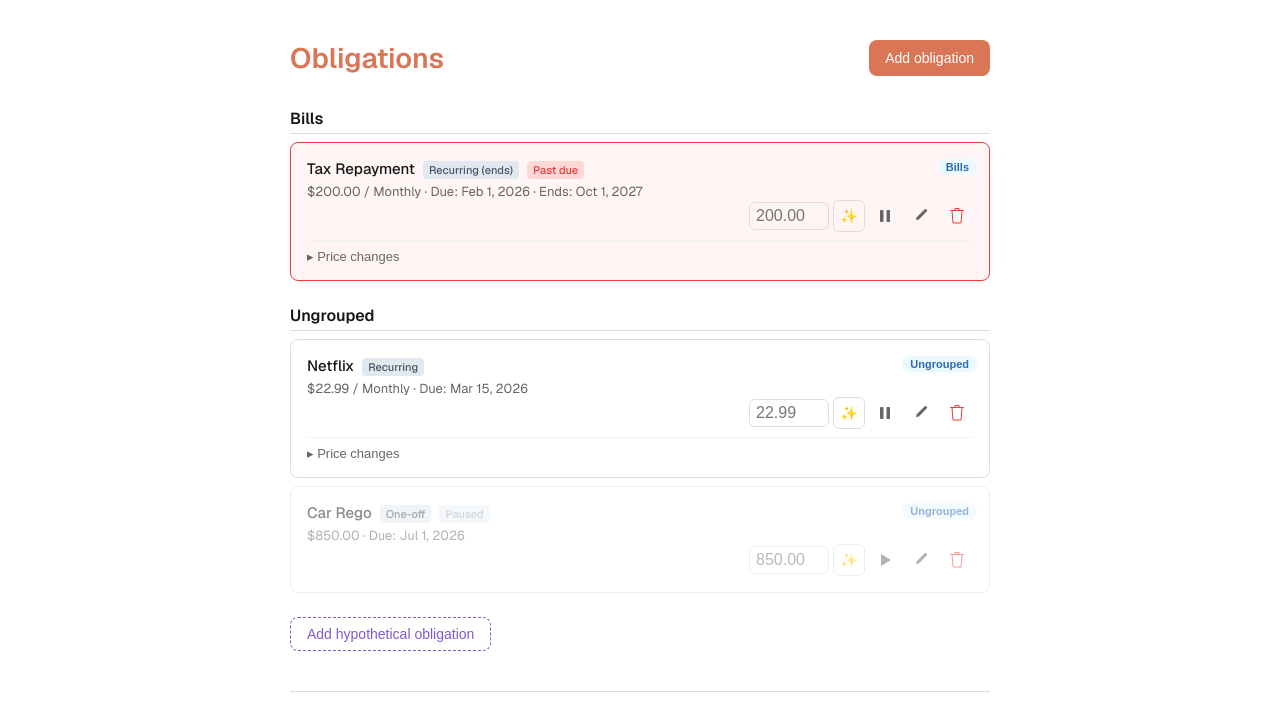
Test case: ObligationsPage › does not delete when confirmation is cancelled
The image size is (1280, 717).
Check: the text "Netflix" is shown, box [307,356,354,375]
Click the button named "Delete Netflix".
click(957, 413)  # box [941,397,973,429]
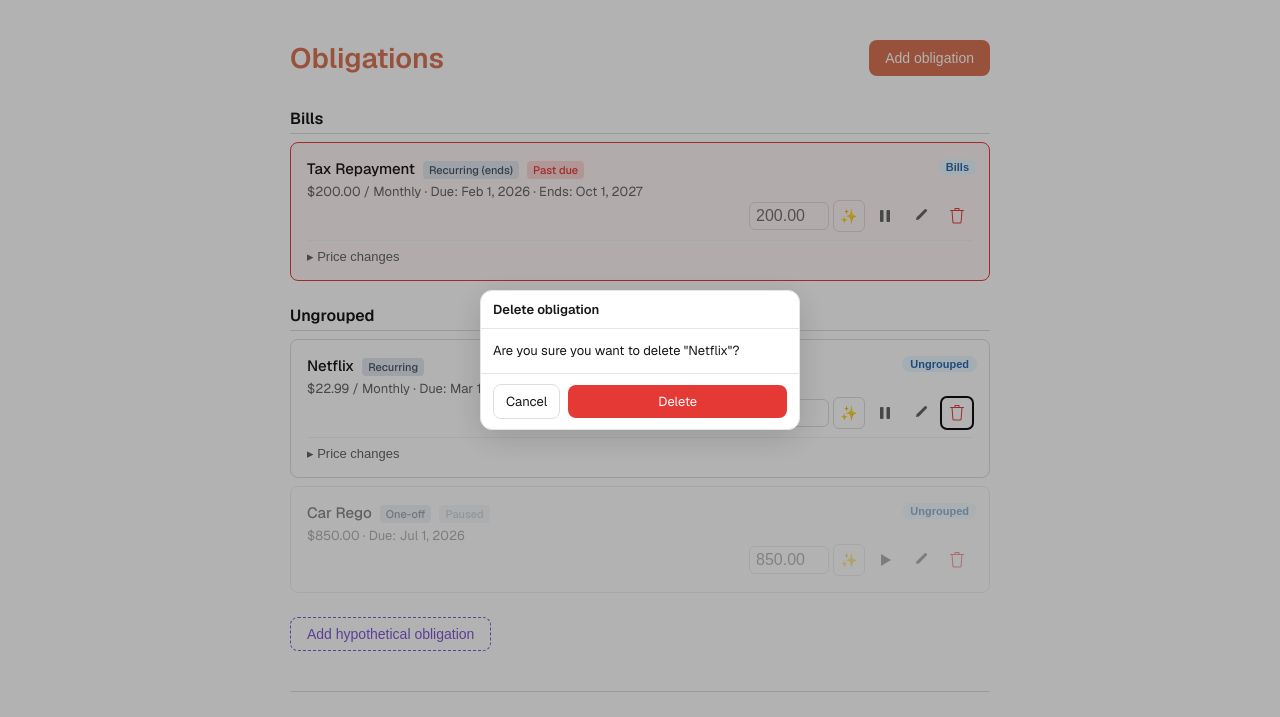
Check: the dialog with test id "confirm-dialog" is shown, box [480,290,800,430]
Click the button with test id "confirm-dialog-cancel".
click(527, 401)  # box [493,384,560,419]
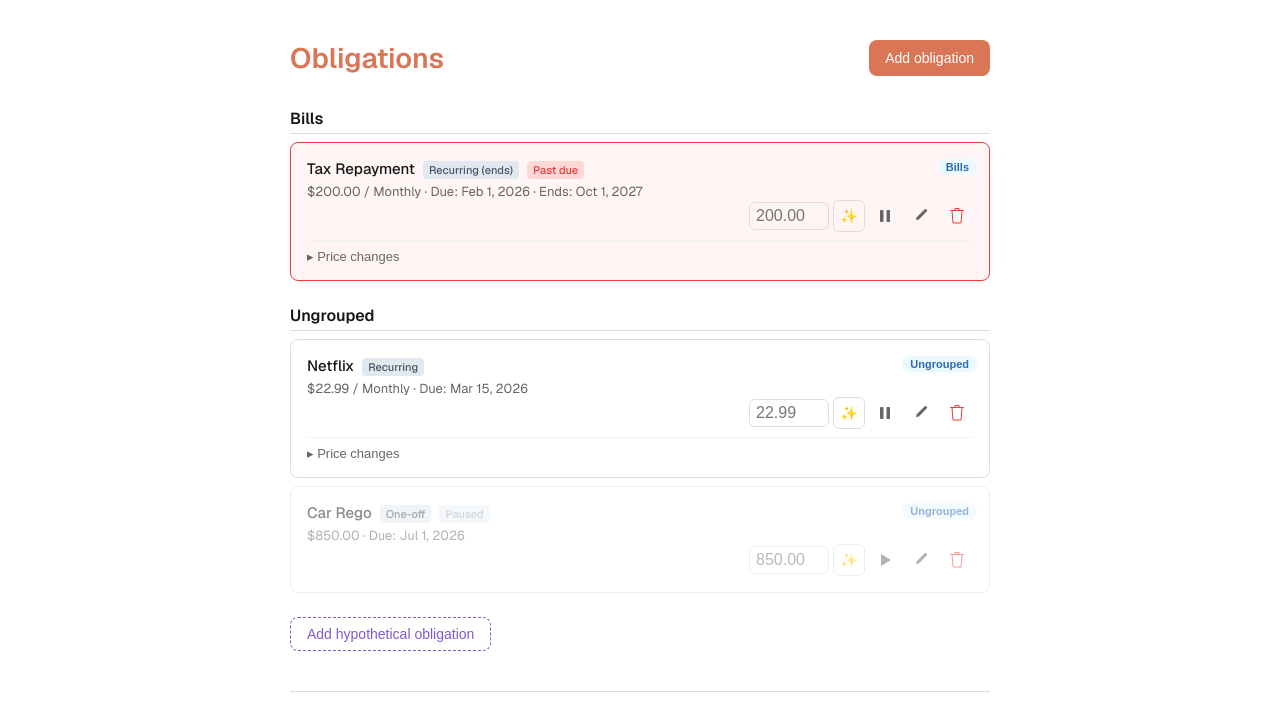
Check: the text "Netflix" is shown, box [307,356,354,375]
Check: the dialog with test id "confirm-dialog" is gone
